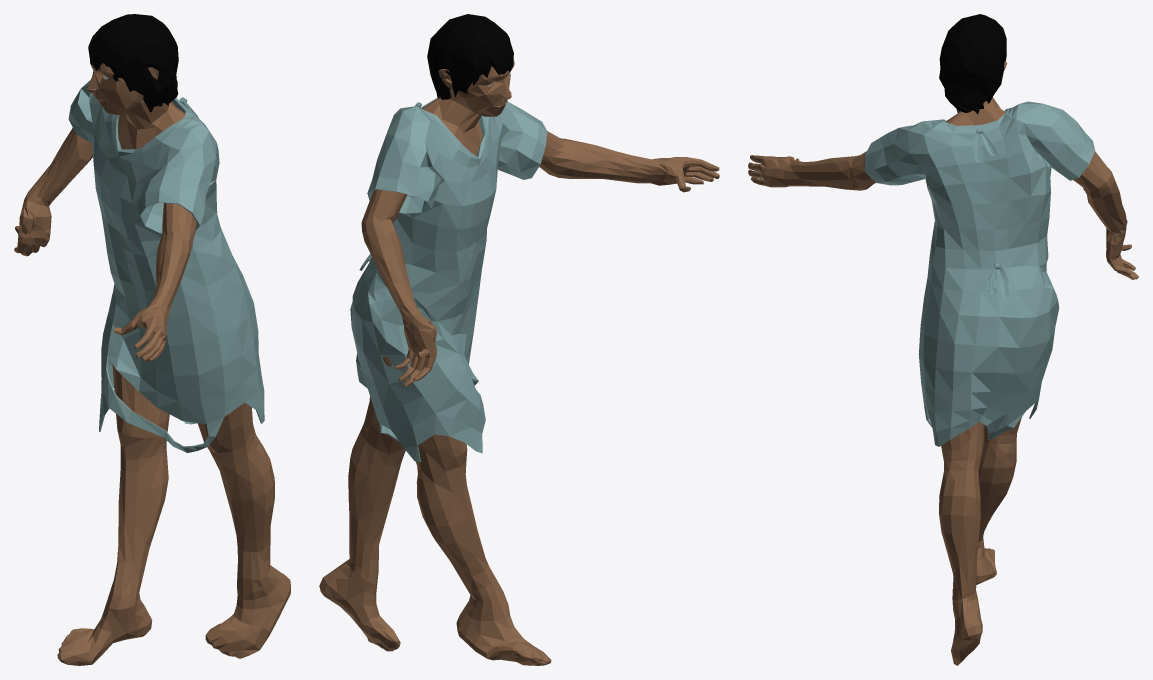
The model's file is 18 Zombie 1.FBX.
3 views of the same model, side by side, from view 1: azimuth 30°, elevation 25°; view 2: azimuth 150°, elevation 25°; view 3: azimuth 270°, elevation 25° (orthographic). The views are drawn at different scales.
Parts seen in each view (by area): view 1: Zombie 1; view 2: Zombie 1; view 3: Zombie 1.
Boxes of the visible parts, <box> form: Zombie 1: <box>14,14,290,665</box>; Zombie 1: <box>319,14,719,665</box>; Zombie 1: <box>748,14,1138,665</box>.
Bounding box in the file's own units: 227 × 519 × 307.
